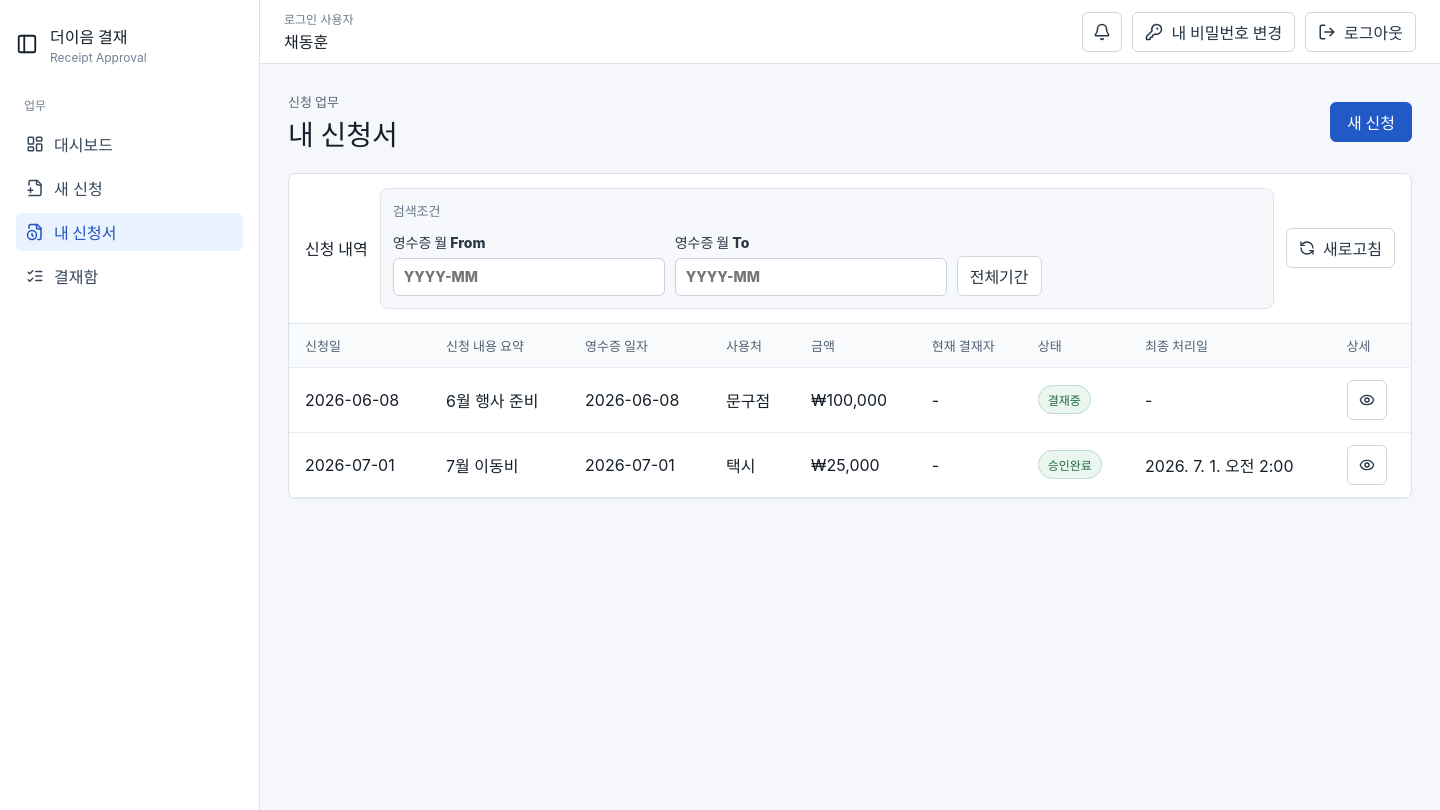
Test: MyApplicationsPage › 내 신청서를 영수증 월 범위로 필터링하고 전체기간으로 되돌린다
This screenshot has width=1440, height=810.
Expected: the element "검색조건" is shown, top-left (393, 203), bottom-right (440, 219)
Expected: the text "문구점" is shown, top-left (710, 367), bottom-right (795, 432)
Type "20260699" into the field labelled "영수증 월 From".
click(529, 277); type("20260699")  # box top-left (393, 258), bottom-right (665, 296)
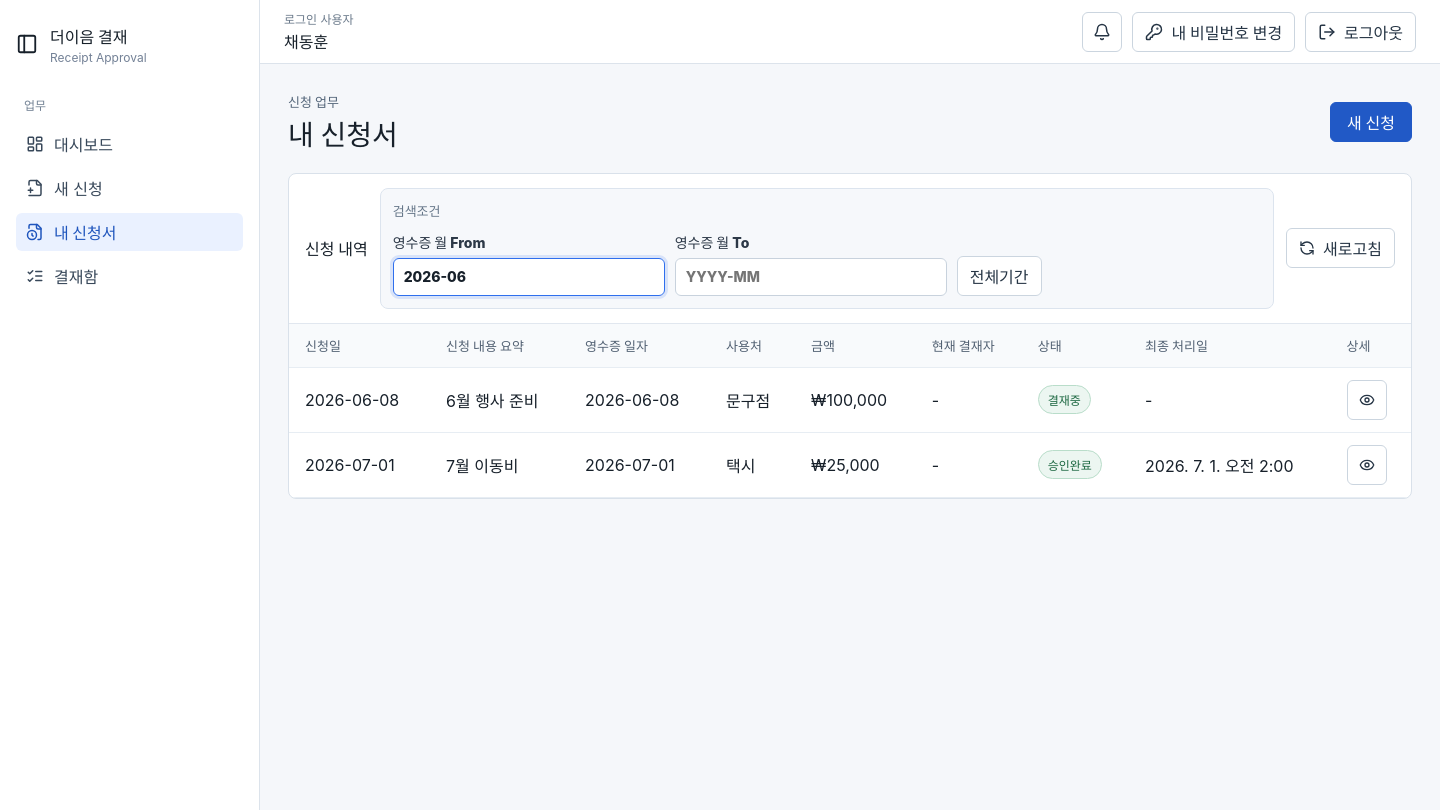
Type "202606" into the field labelled "영수증 월 To".
click(811, 277); type("202606")  # box top-left (675, 258), bottom-right (947, 296)
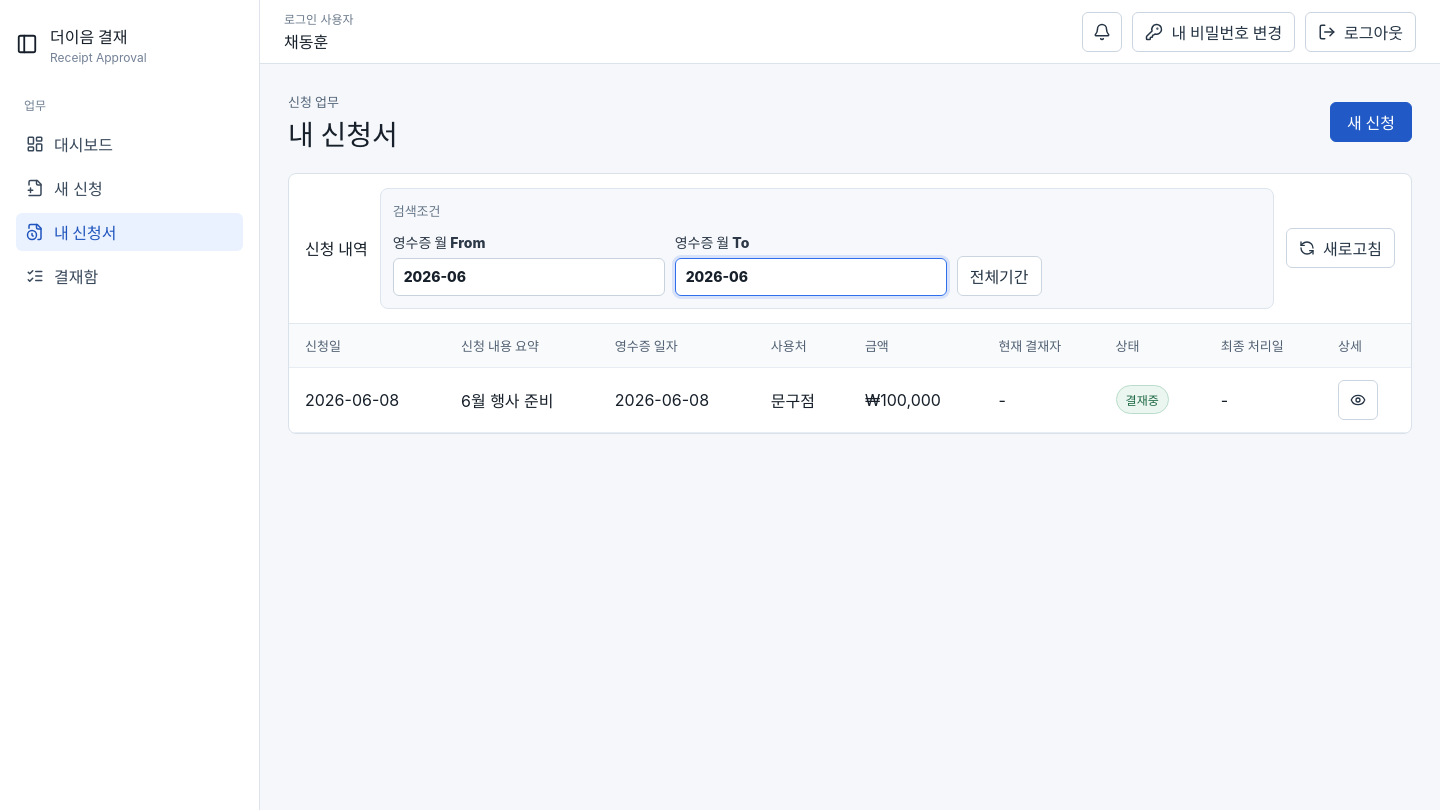
Expected: the field labelled "영수증 월 From" holds "2026-06", top-left (393, 258), bottom-right (665, 296)
Expected: the field labelled "영수증 월 To" holds "2026-06", top-left (675, 258), bottom-right (947, 296)
Expected: the text "택시" is gone
Click the button "전체기간".
click(999, 276)  # box top-left (957, 256), bottom-right (1042, 296)
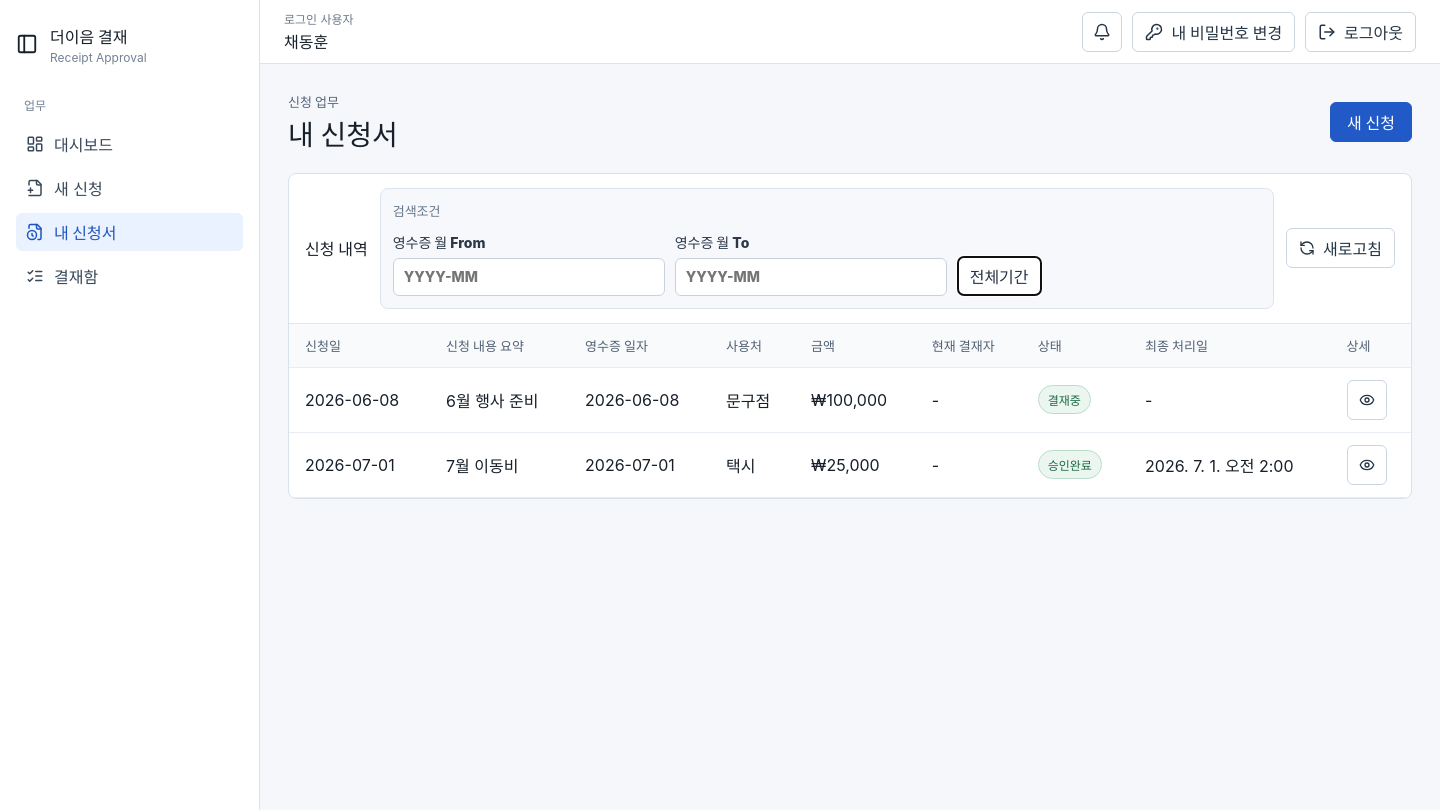
Expected: the field labelled "영수증 월 From" is empty, top-left (393, 258), bottom-right (665, 296)
Expected: the field labelled "영수증 월 To" is empty, top-left (675, 258), bottom-right (947, 296)
Expected: the text "택시" is shown, top-left (710, 432), bottom-right (795, 497)
